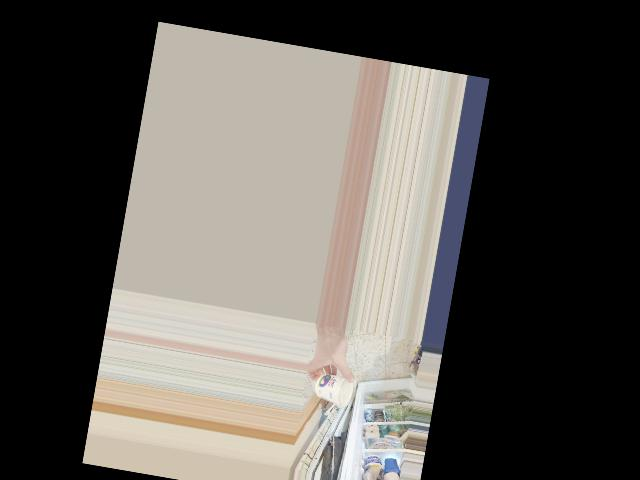cotage: (311, 367, 355, 409)
